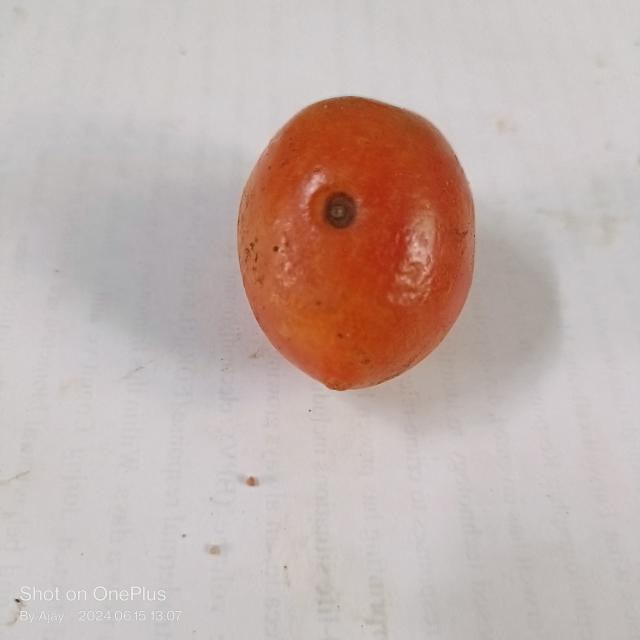Bacterial_Spot: (322, 191, 358, 234)
